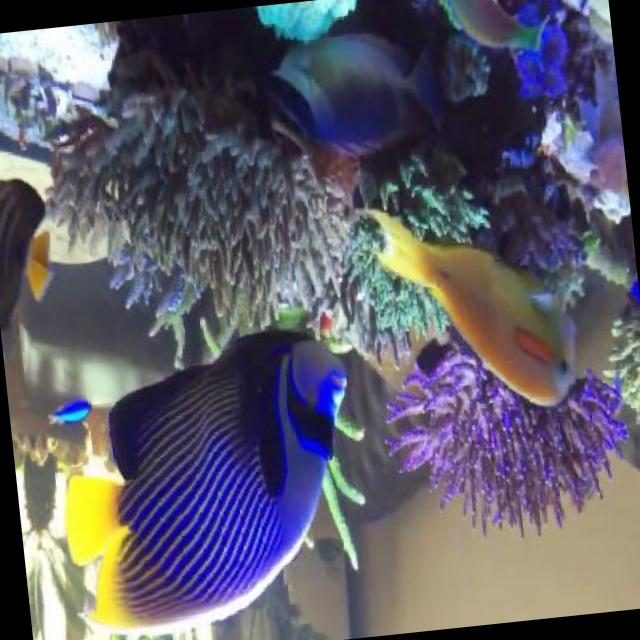AngelFish: (55, 332, 372, 636)
